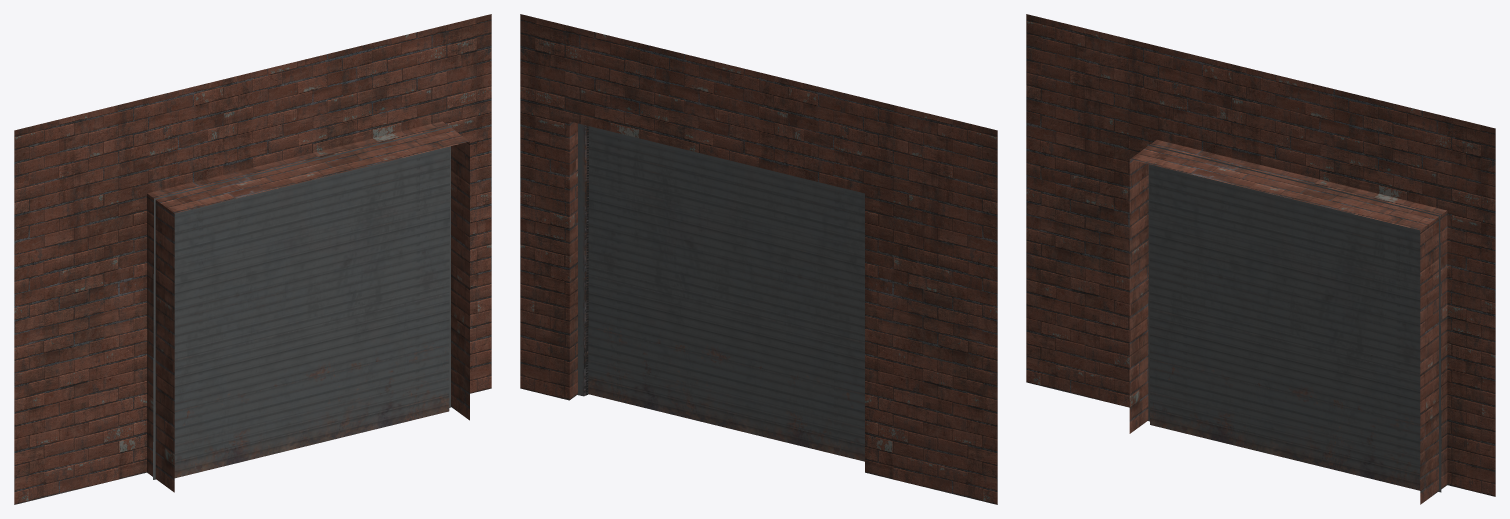
Rendered from ARC0910022.fbx.
The picture shows the model from 3 angles, left to right: view 1: azimuth 30°, elevation 25°; view 2: azimuth 150°, elevation 25°; view 3: azimuth 330°, elevation 25°; orthographic projection.
Visible parts, largest first — view 1: smARC0910022; view 2: smARC0910022; view 3: smARC0910022.
Boxes of the visible parts, x1,y1,x2,y2 form: smARC0910022: (14,14,491,504); smARC0910022: (520,14,997,504); smARC0910022: (1026,14,1495,504).
Bounding box in the file's own units: 400 × 301 × 40.
Materials: 1 (1 with a texture image).
